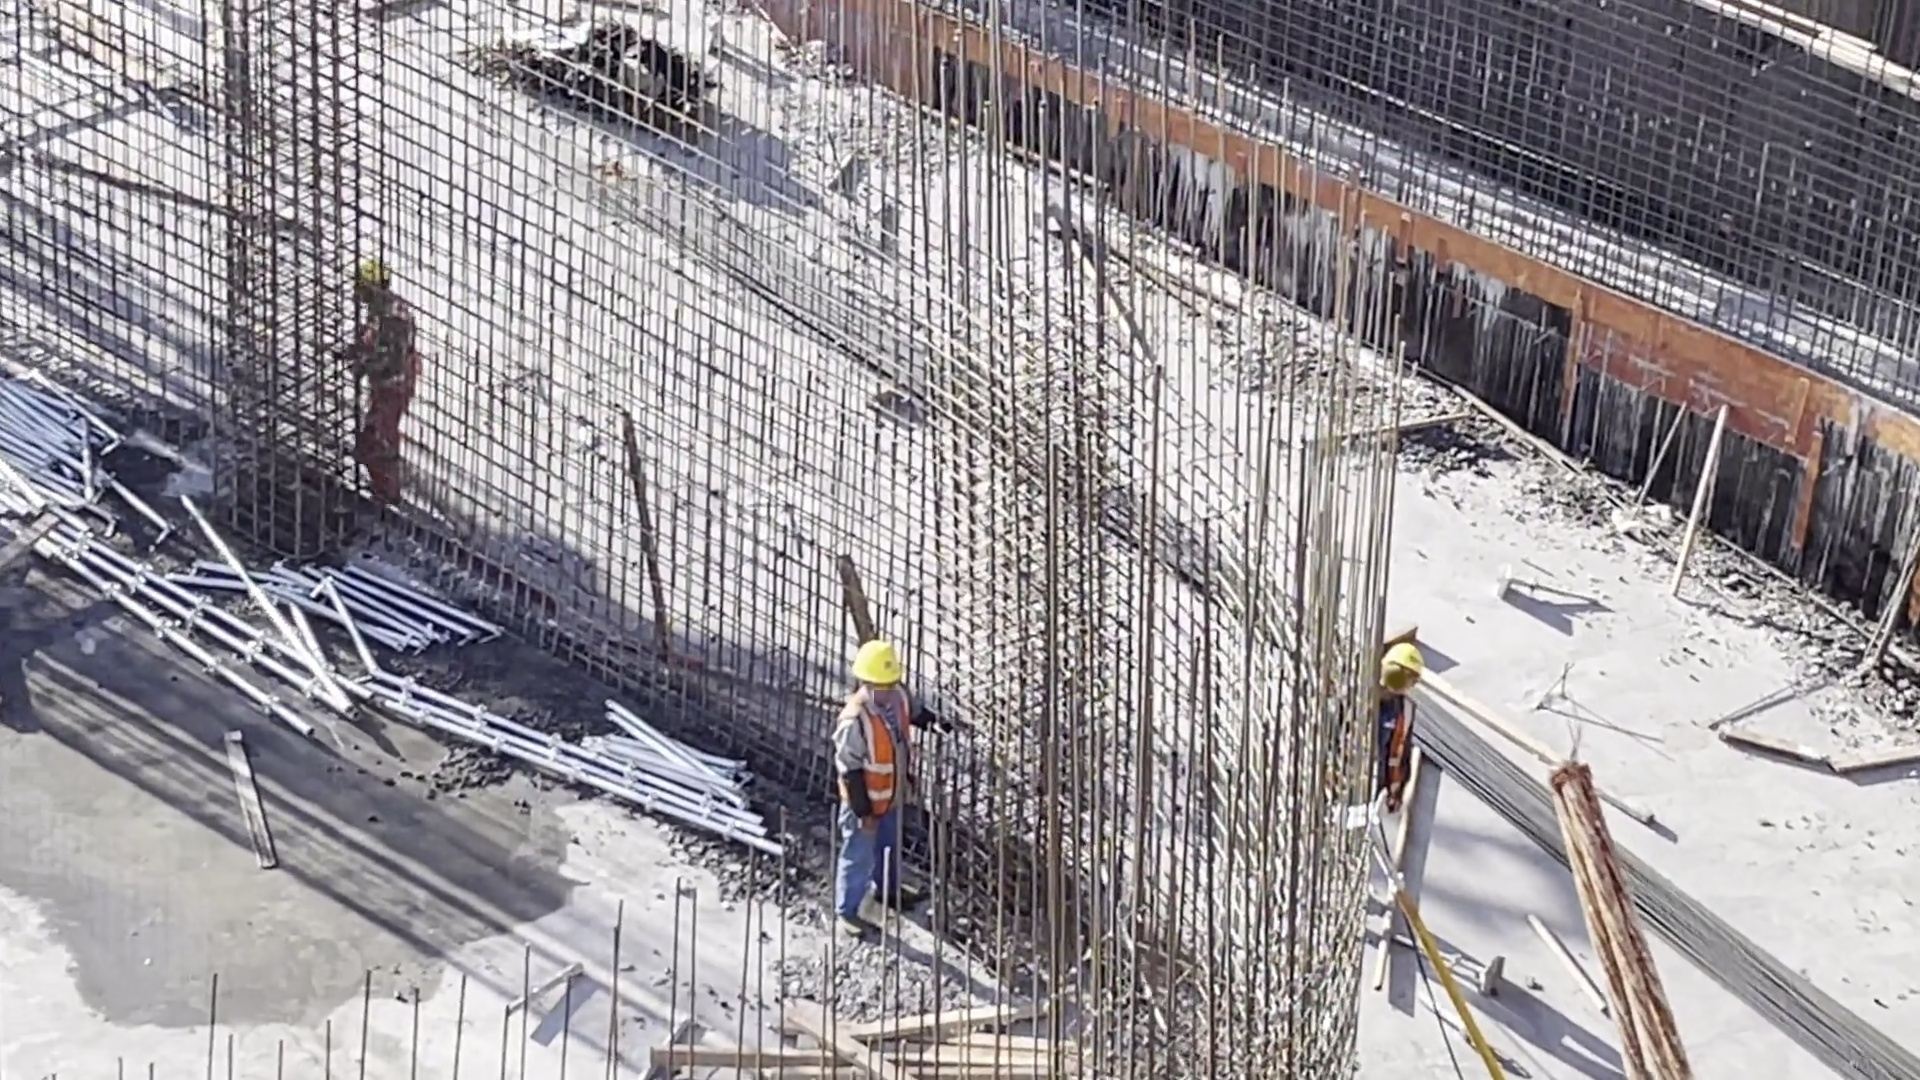helmet: (1360, 637, 1428, 689), (845, 639, 912, 676), (349, 261, 392, 291)
person: (828, 635, 938, 946), (344, 260, 441, 512), (1349, 638, 1426, 846)
rebar: (1428, 709, 1876, 1080)
scaffold: (164, 532, 449, 679), (549, 709, 782, 860)
vest: (844, 693, 929, 803), (353, 306, 423, 412), (1371, 693, 1428, 815)
